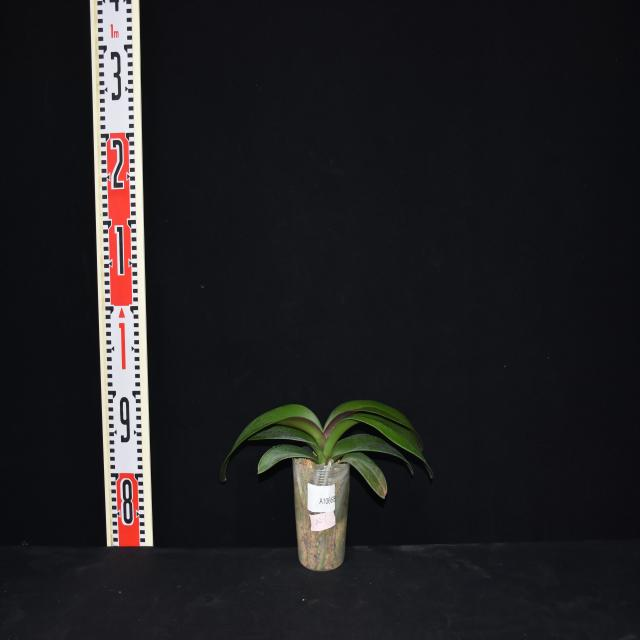leaf: (221, 404, 327, 481), (326, 414, 434, 479), (324, 401, 423, 451), (328, 433, 414, 475), (339, 453, 387, 498), (248, 425, 316, 451), (258, 444, 318, 473)
